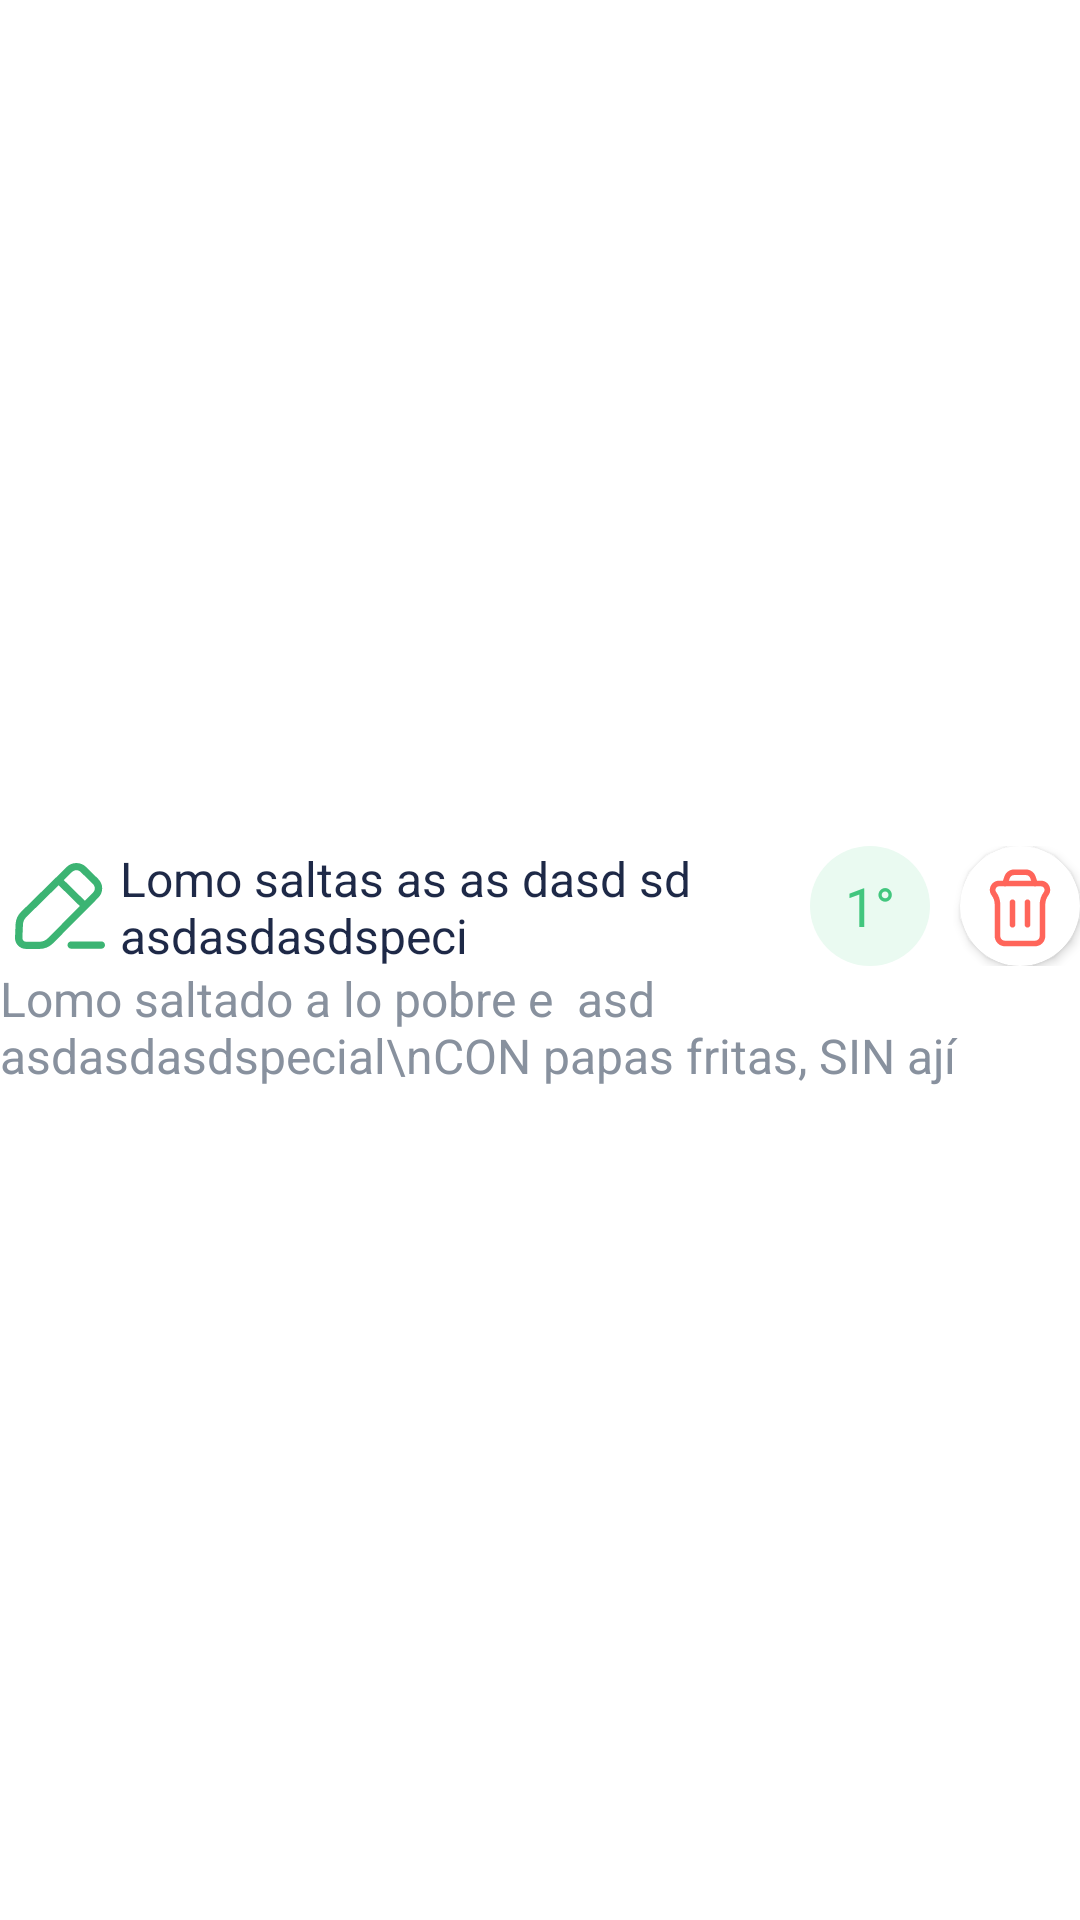

Where to tap for icons on this 1080×1920 app screen, as point (x, y):
editar: point (60, 906)
eliminar: point (1025, 917)
